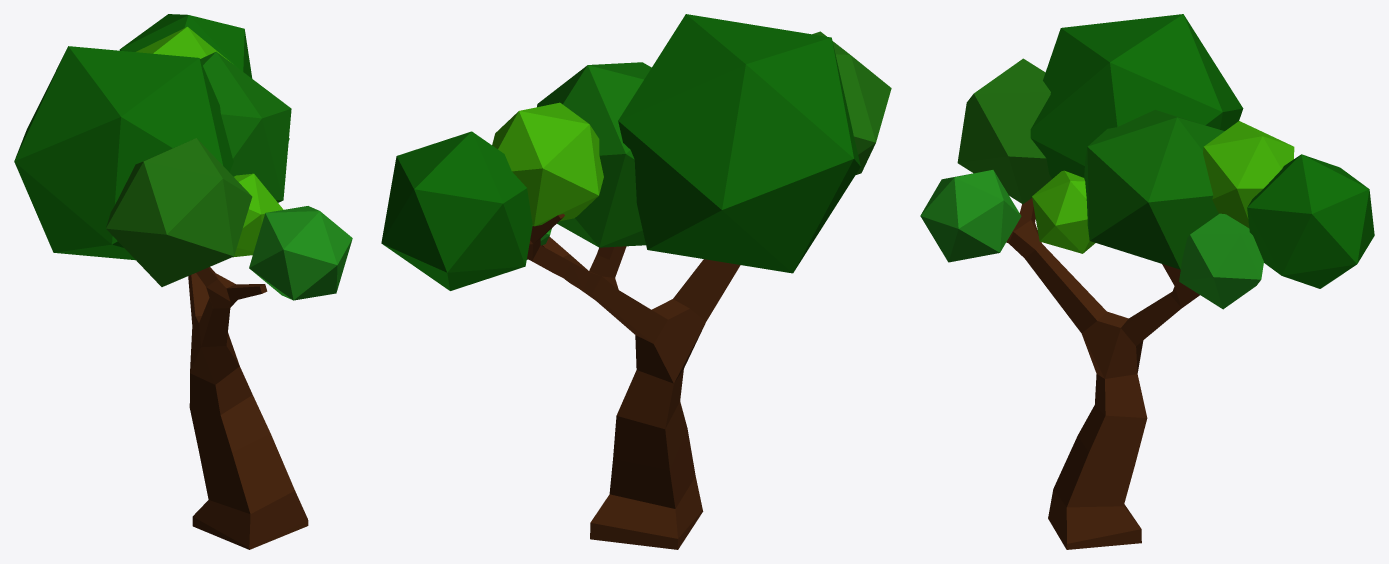
Rendered from Low poly tree 4.glb.
3 views of the same model, side by side, from view 1: azimuth 30°, elevation 25°; view 2: azimuth 150°, elevation 25°; view 3: azimuth 270°, elevation 25° (orthographic). The views are drawn at different scales.
Parts seen in each view (by area): view 1: Icosphere.004, Cube, Icosphere.005, Icosphere.006, Icosphere.002, Icosphere, Icosphere.007, Icosphere.001; view 2: Icosphere.004, Cube, Icosphere, Icosphere.002, Icosphere.001, Icosphere.005; view 3: Cube, Icosphere.004, Icosphere.002, Icosphere, Icosphere.005, Icosphere.006, Icosphere.003, Icosphere.001, Icosphere.007.
Part boxes in pixels (<box>): Icosphere.004: <box>14,46,233,260</box>; Cube: <box>188,267,308,549</box>; Icosphere.005: <box>106,138,252,286</box>; Icosphere.006: <box>249,206,352,300</box>; Icosphere.002: <box>200,51,291,202</box>; Icosphere: <box>119,14,252,78</box>; Icosphere.007: <box>233,173,283,257</box>; Icosphere.001: <box>136,26,232,63</box>; Icosphere.004: <box>618,14,860,273</box>; Cube: <box>527,214,740,549</box>; Icosphere: <box>381,131,532,290</box>; Icosphere.002: <box>537,62,651,247</box>; Icosphere.001: <box>492,102,603,226</box>; Icosphere.005: <box>812,31,891,174</box>; Cube: <box>1006,198,1199,549</box>; Icosphere.004: <box>1030,14,1243,178</box>; Icosphere.002: <box>1084,109,1224,269</box>; Icosphere: <box>1247,154,1374,288</box>; Icosphere.005: <box>957,58,1051,204</box>; Icosphere.006: <box>920,170,1021,262</box>; Icosphere.003: <box>1179,213,1263,309</box>; Icosphere.001: <box>1203,121,1294,227</box>; Icosphere.007: <box>1032,170,1095,253</box>.
Size of the model in its own units: 7.17 by 10.29 by 9.32.
